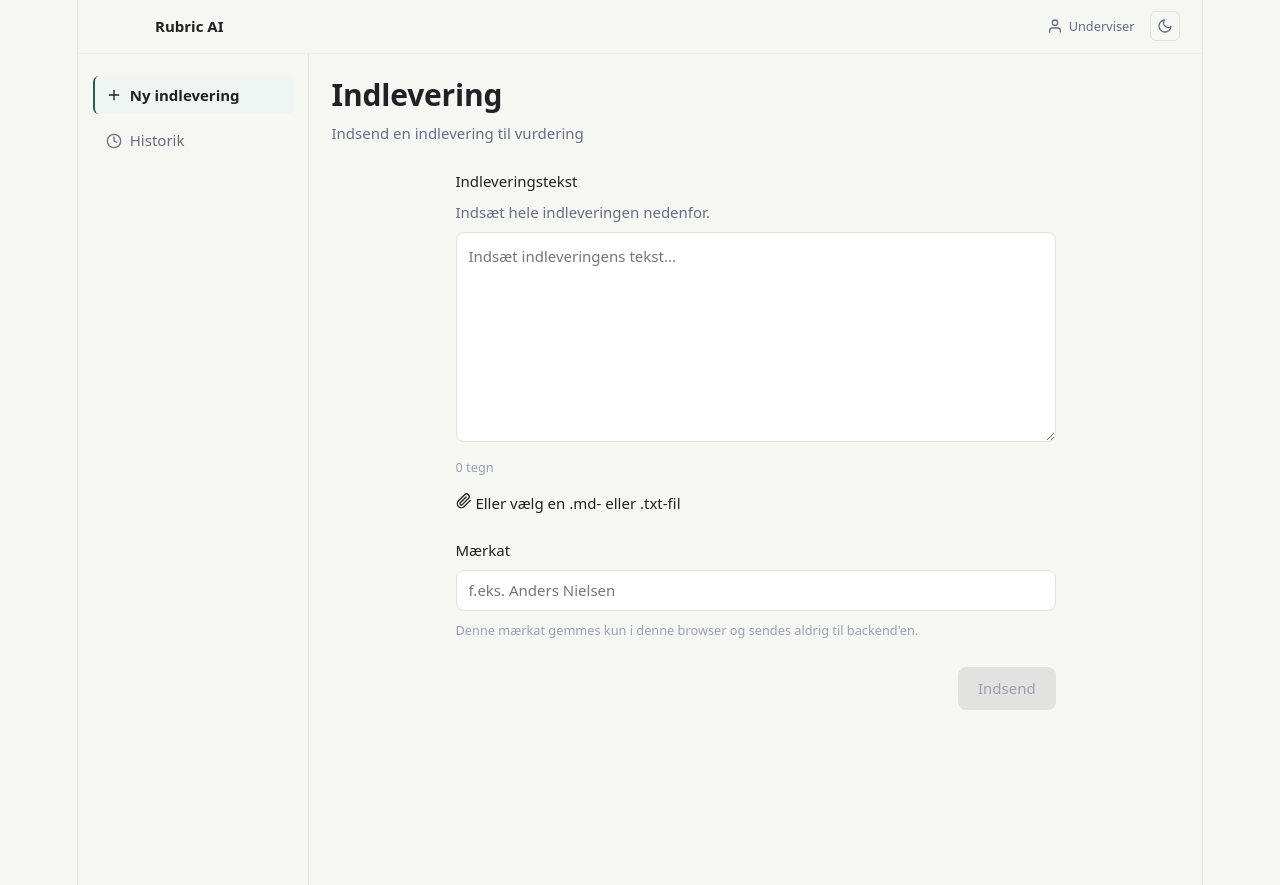
Upload flow › when the evaluation fails with invalid_model_output › shows a non-blocking inline error whose Retry resubmits the same text
Step 1. Type "Some submission text." into the text box labelled "Indleveringstekst" → (756, 337), box [456, 232, 1056, 442]
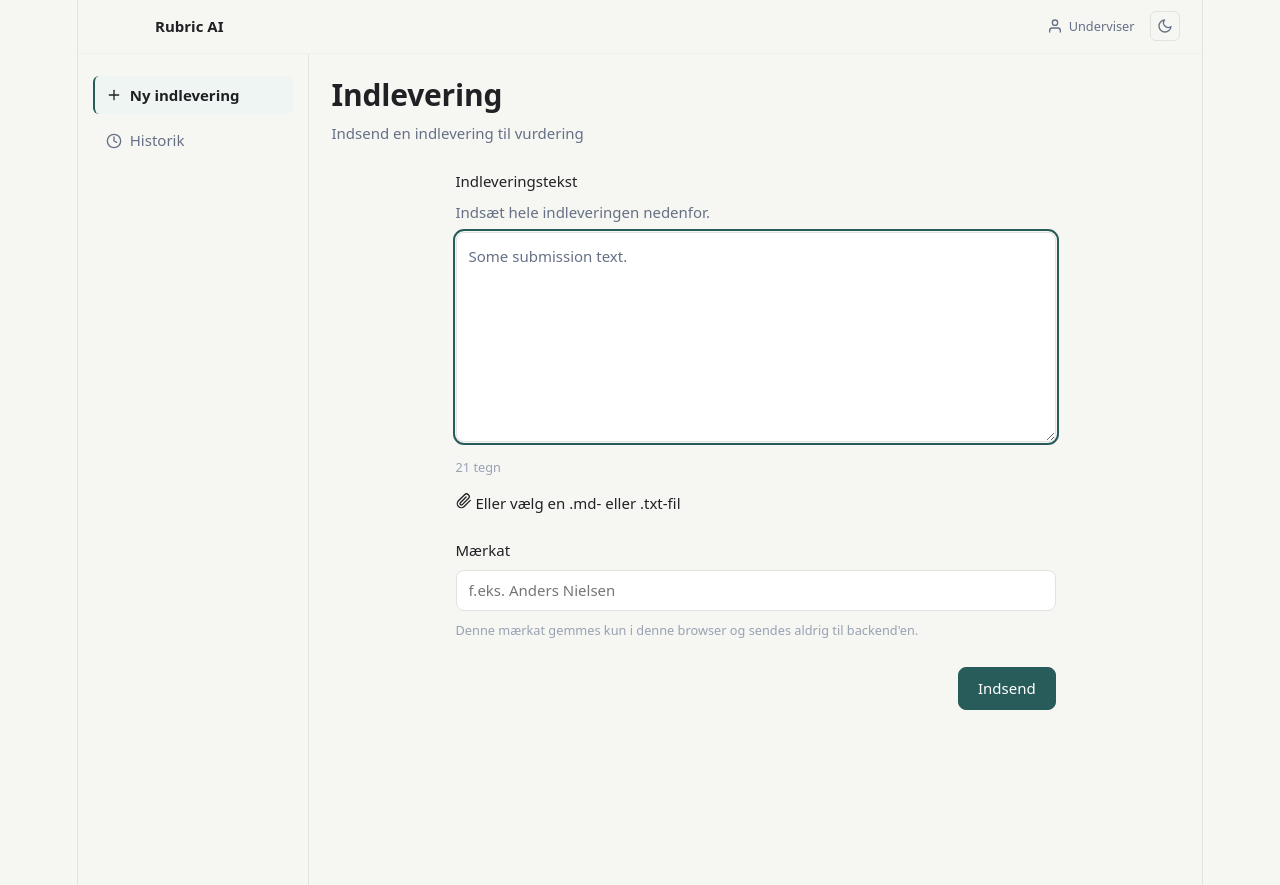
Step 2. Type "Anna" into the field labelled "Mærkat" → (756, 591), box [456, 570, 1056, 612]
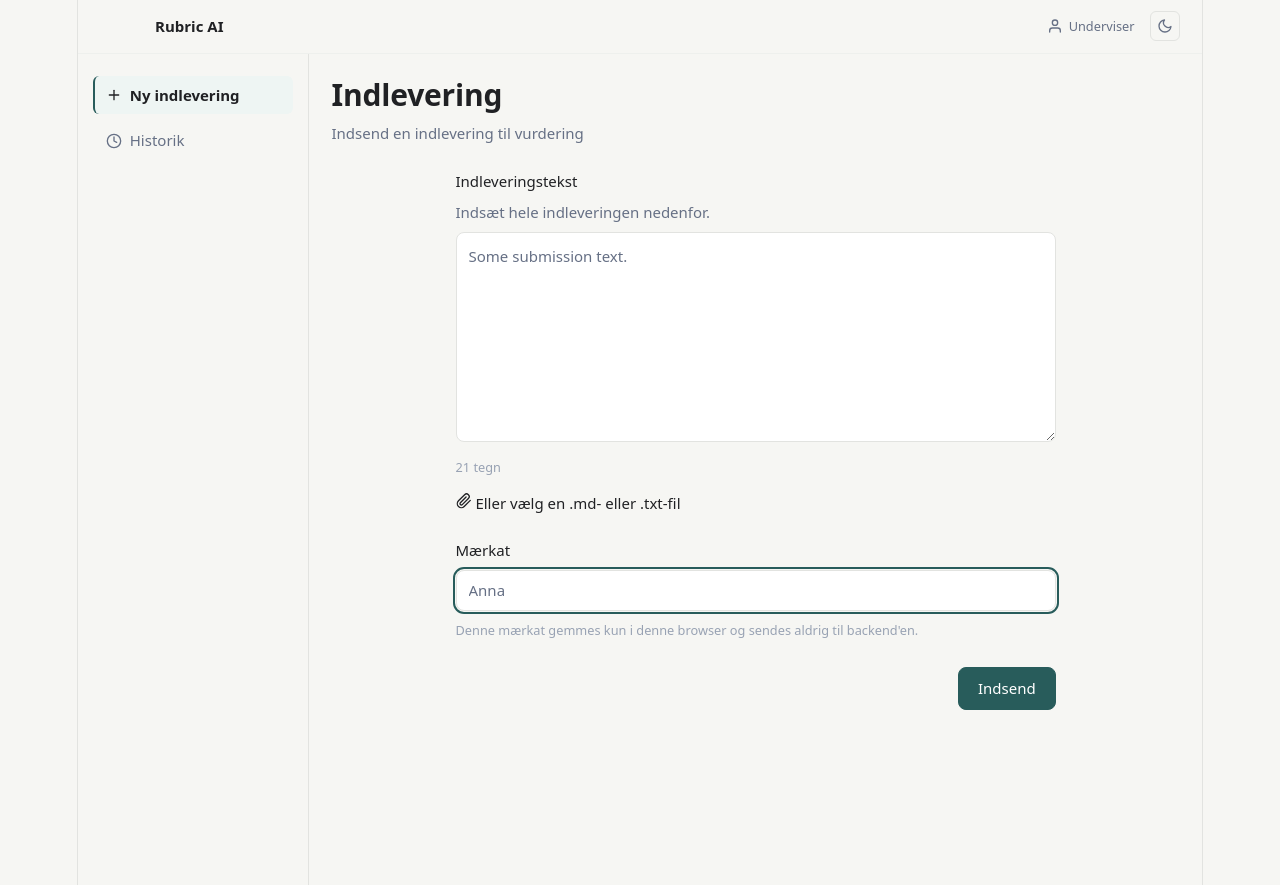
Step 3. Click the button "Indsend" → (1007, 688), box [958, 667, 1056, 710]
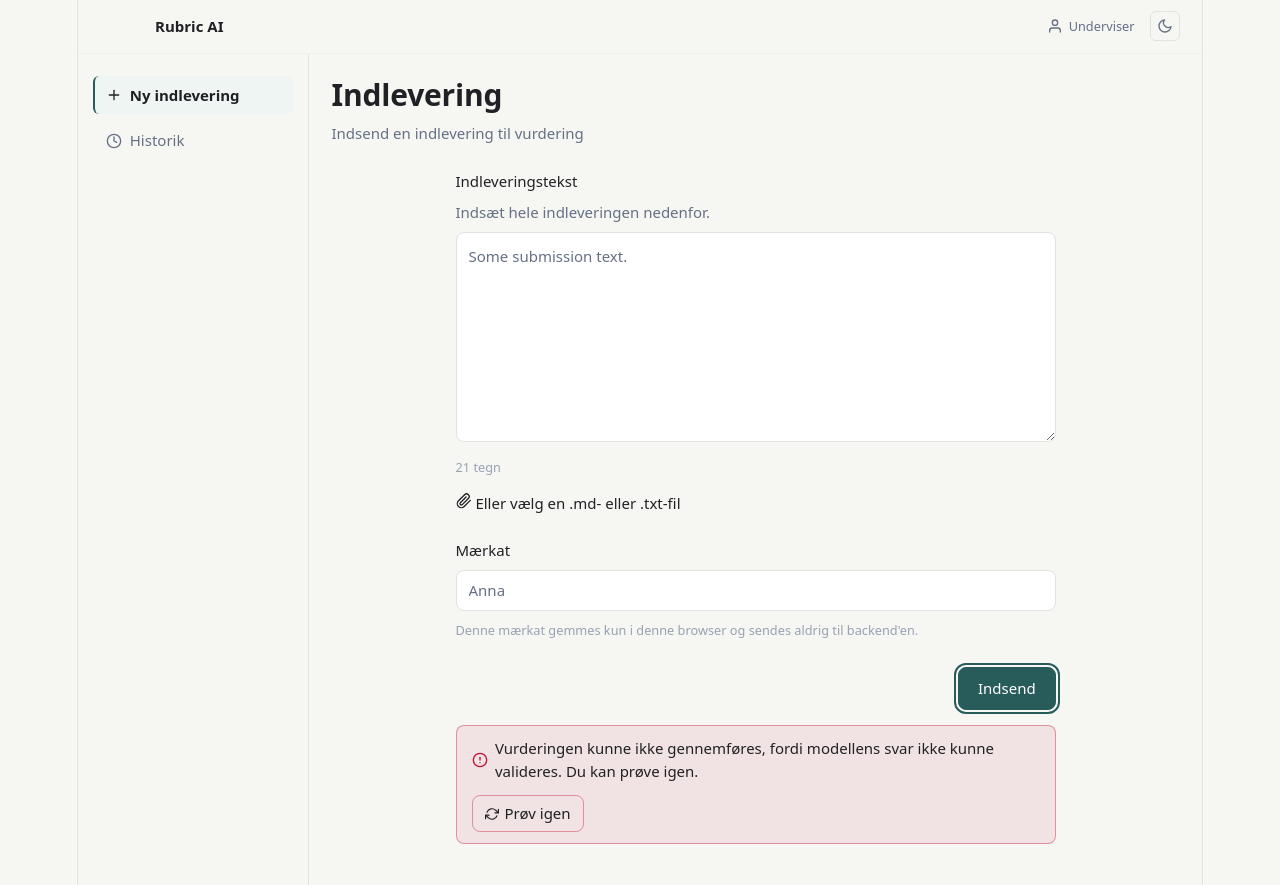
Check: the message does not show "raw server detail", box [456, 725, 1056, 844]
Check: the message shows "Vurderingen kunne ikke gennemføres, fordi modellens svar ikke kunne valideres. Du kan prøve igen.", box [495, 738, 994, 782]
Step 4. Click the button "Prøv igen" → (528, 814), box [472, 795, 584, 832]
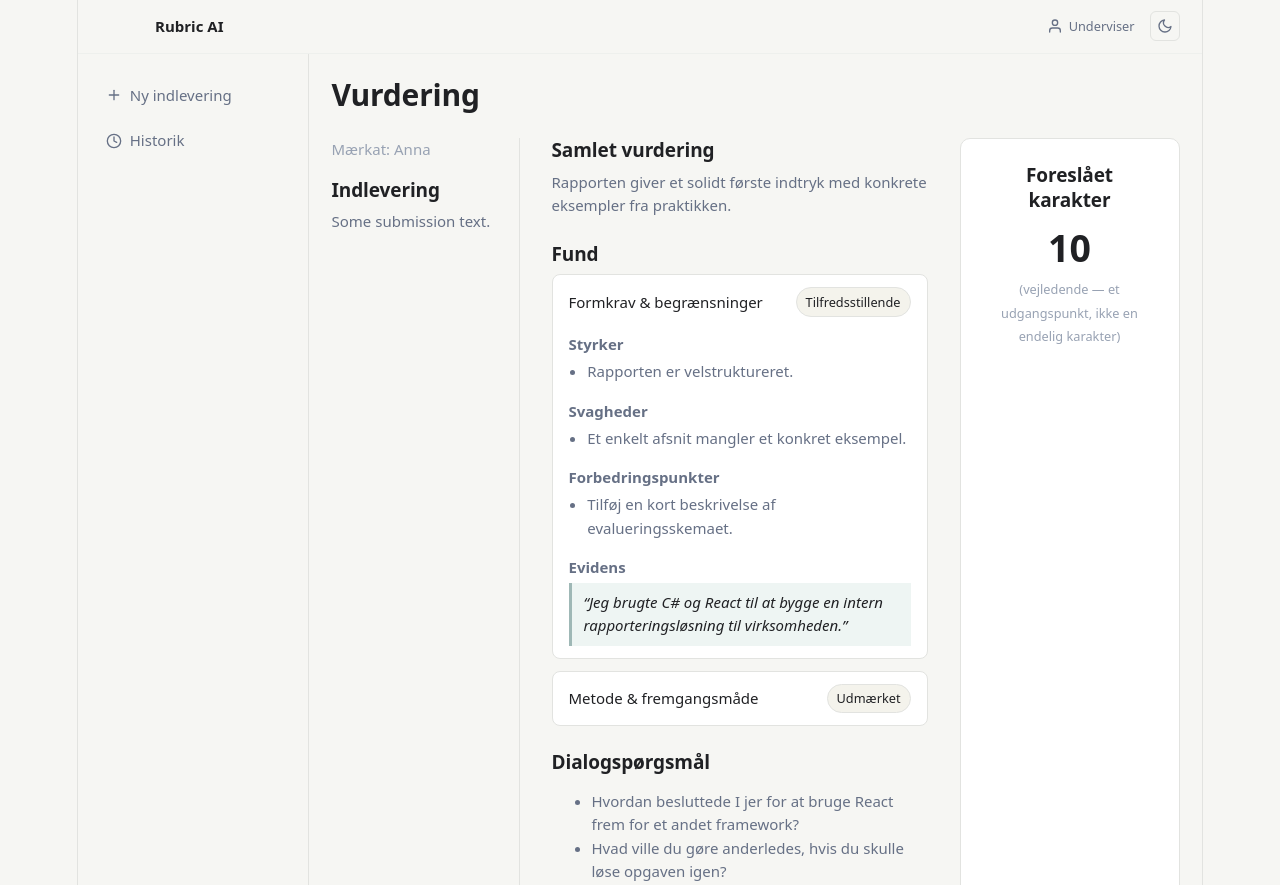
Check: the heading "Vurdering" is shown, box [332, 74, 480, 115]
